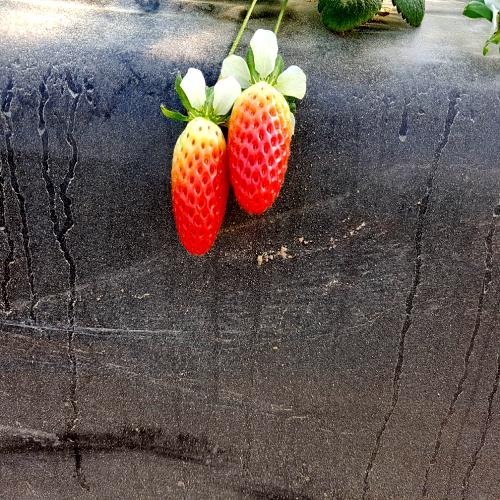partially-ripe: (232, 79, 296, 224), (170, 112, 231, 259)
